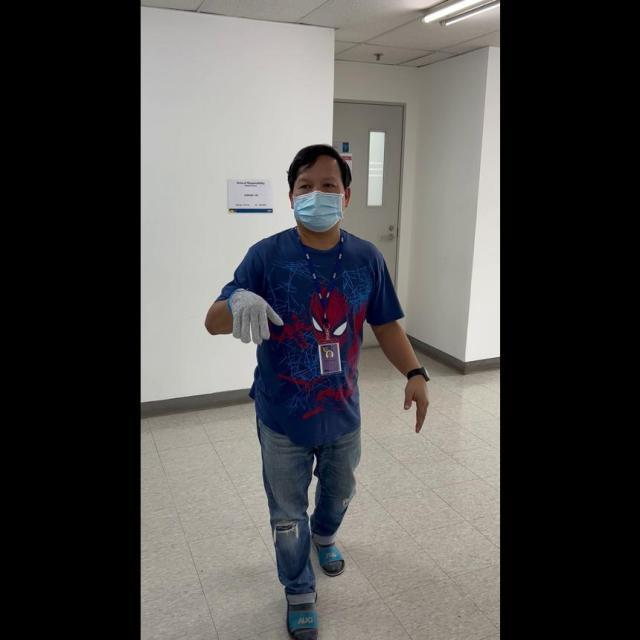bare_hand: (400, 371, 431, 432)
gloved_hand: (223, 282, 282, 348)
